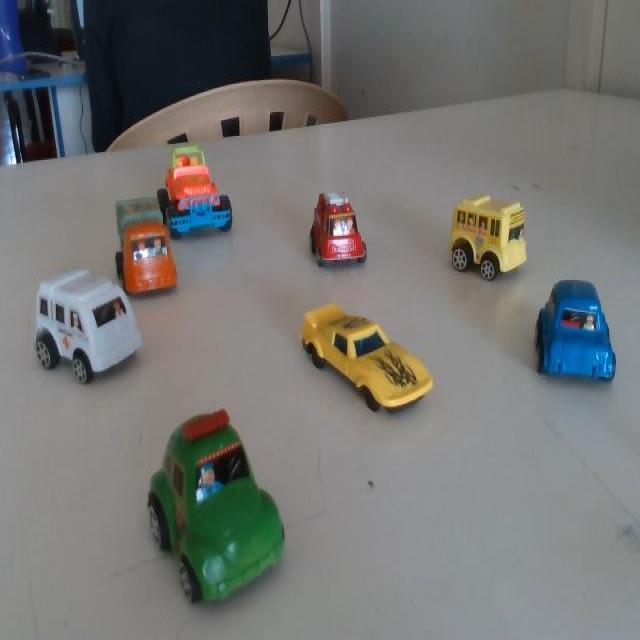car: (134, 413, 289, 599), (297, 296, 433, 420), (29, 254, 144, 396), (533, 277, 622, 393), (439, 190, 527, 292), (163, 136, 241, 235), (112, 188, 176, 300), (299, 181, 368, 280)
